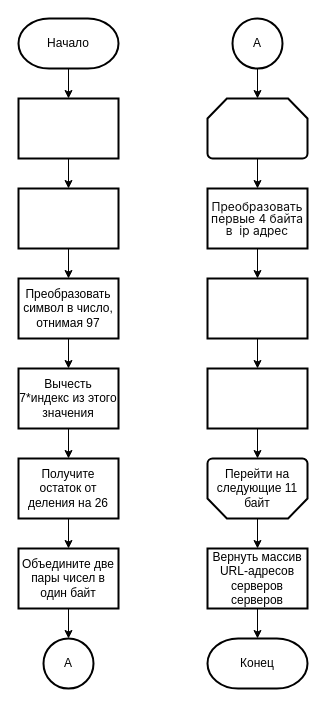
This 325x706 diagram has some shape labels left out. The centre of each missing label's shape, as x and y in pixels:
"Отправить HTTP-запрос чтобы получить содержимое файла" belongs at point (68, 128).
"Пока все полученные знаяения не закончаться" belongs at point (257, 128).
"Полученный текст считать в одну строку." belongs at point (68, 218).
"Преобразовать следующий байт в значение clu" belongs at point (257, 398).
"Следующие 3 байта объединяются в значение ac" belongs at point (257, 308).
